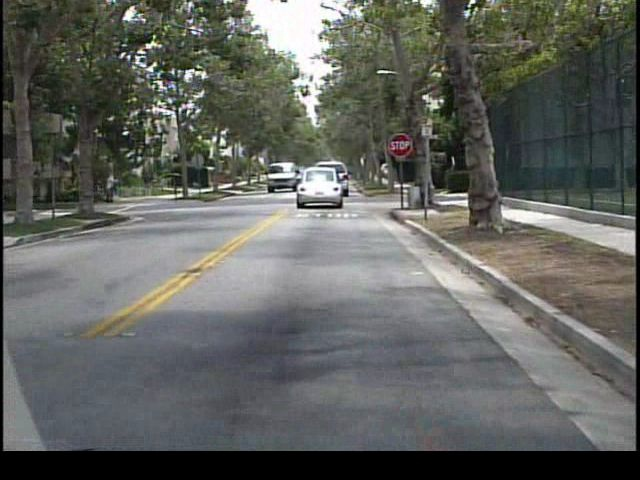person: (104, 165, 123, 206)
